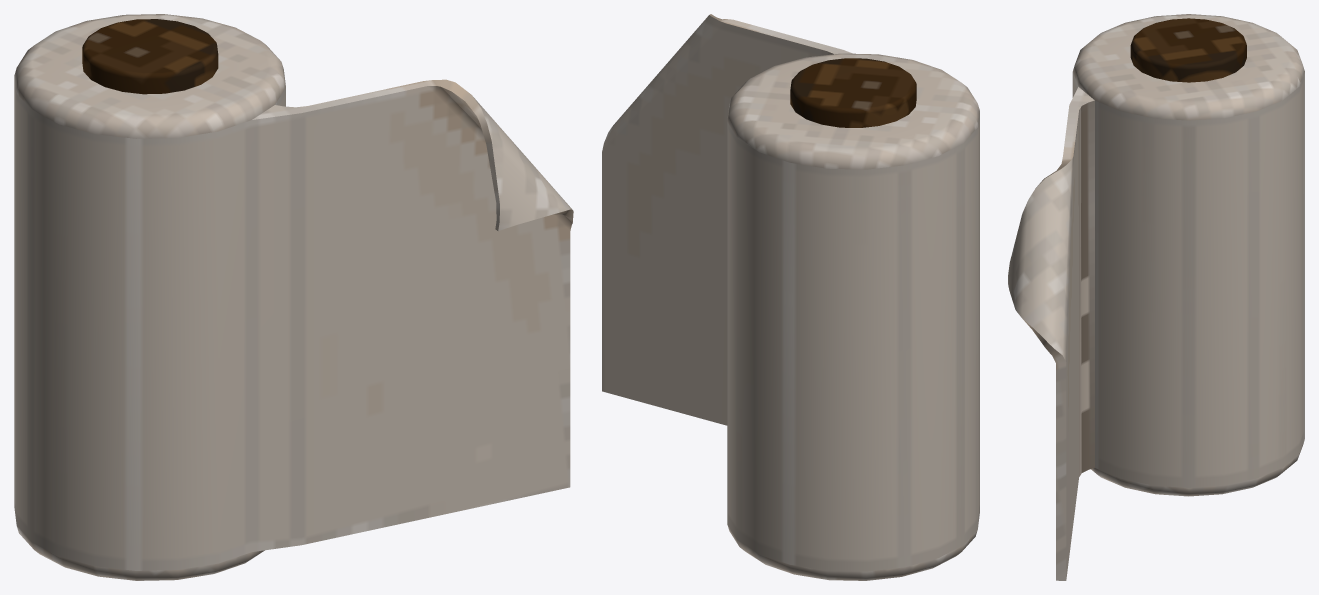
Rendered from (OLD)Cloth.fbx.
3 renders of one model, left to right at view 1: azimuth 30°, elevation 25°; view 2: azimuth 150°, elevation 25°; view 3: azimuth 270°, elevation 25°, orthographic. The views are drawn at different scales.
Parts seen in each view (by area): view 1: polySurface1; view 2: polySurface1; view 3: polySurface1.
Part boxes in pixels (x1=…): polySurface1: x1=14, y1=14, x2=573, y2=580; polySurface1: x1=602, y1=14, x2=979, y2=580; polySurface1: x1=1008, y1=14, x2=1304, y2=580.
Bounding box in the file's own units: 12.69 × 13.22 × 8.33.
